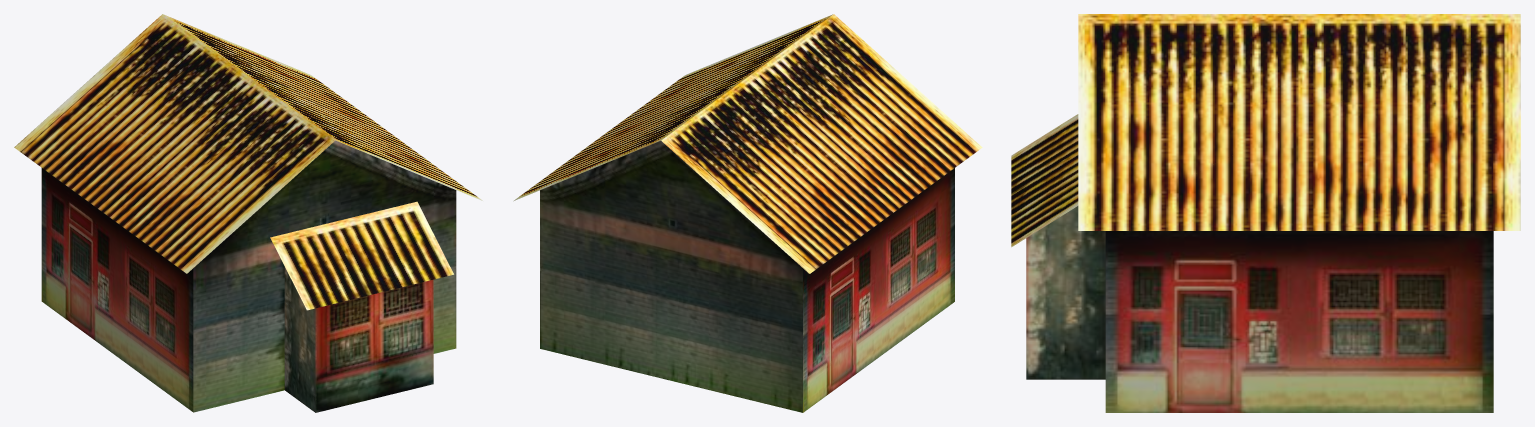
Rendered from fang2.FBX.
3 renders of one model, left to right at view 1: azimuth 30°, elevation 25°; view 2: azimuth 150°, elevation 25°; view 3: azimuth 270°, elevation 25°, orthographic. The views are drawn at different scales.
Parts seen in each view (by area): view 1: fang2; view 2: fang2; view 3: fang2.
Part boxes in pixels (x1,y1,x2,y2): fang2: (14, 14, 482, 412); fang2: (513, 14, 982, 412); fang2: (1011, 14, 1520, 412).
Bounding box in the file's own units: 452 × 525 × 361.
1 material, 1 textured.
